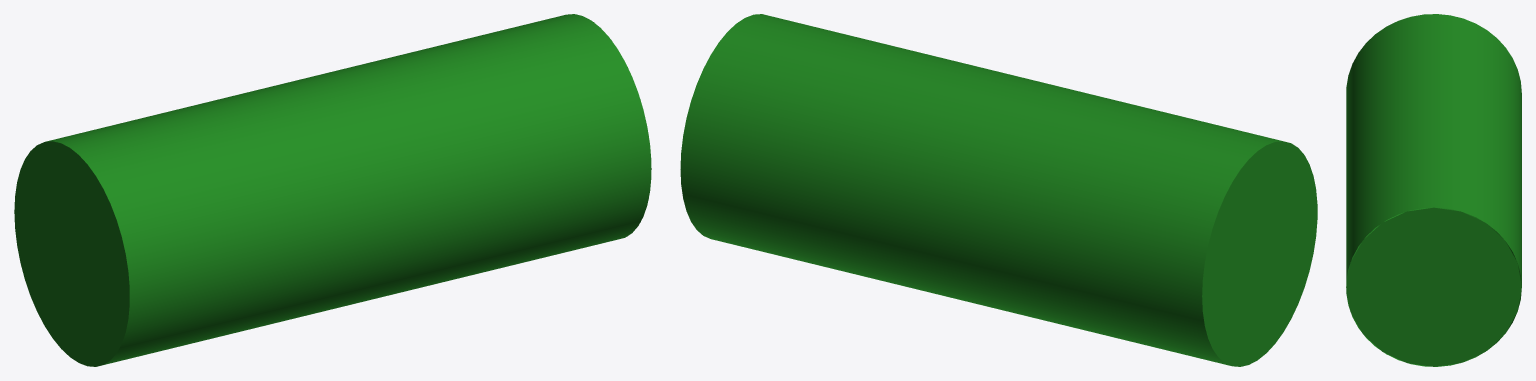
File: Crucifix_reka.obj
3 views of the same model, side by side, from view 1: azimuth 30°, elevation 25°; view 2: azimuth 150°, elevation 25°; view 3: azimuth 270°, elevation 25° (orthographic). The views are drawn at different scales.
Visible parts, largest first — view 1: Bryła1; view 2: Bryła1; view 3: Bryła1.
Boxes of the visible parts, <box> form: Bryła1: <box>14,14,651,366</box>; Bryła1: <box>680,14,1317,366</box>; Bryła1: <box>1346,14,1521,366</box>.
Size of the model in its own units: 66.2 by 25.4 by 25.4.
